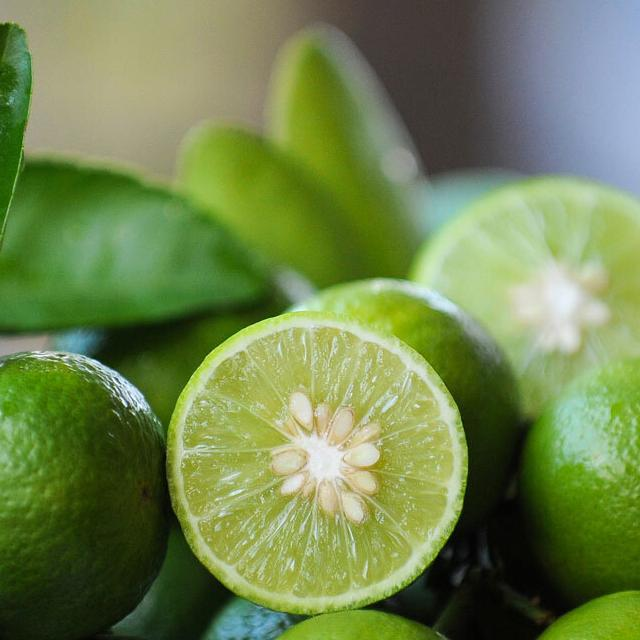lime: (158, 304, 470, 634), (397, 161, 640, 416), (0, 343, 175, 640), (515, 353, 640, 640)
